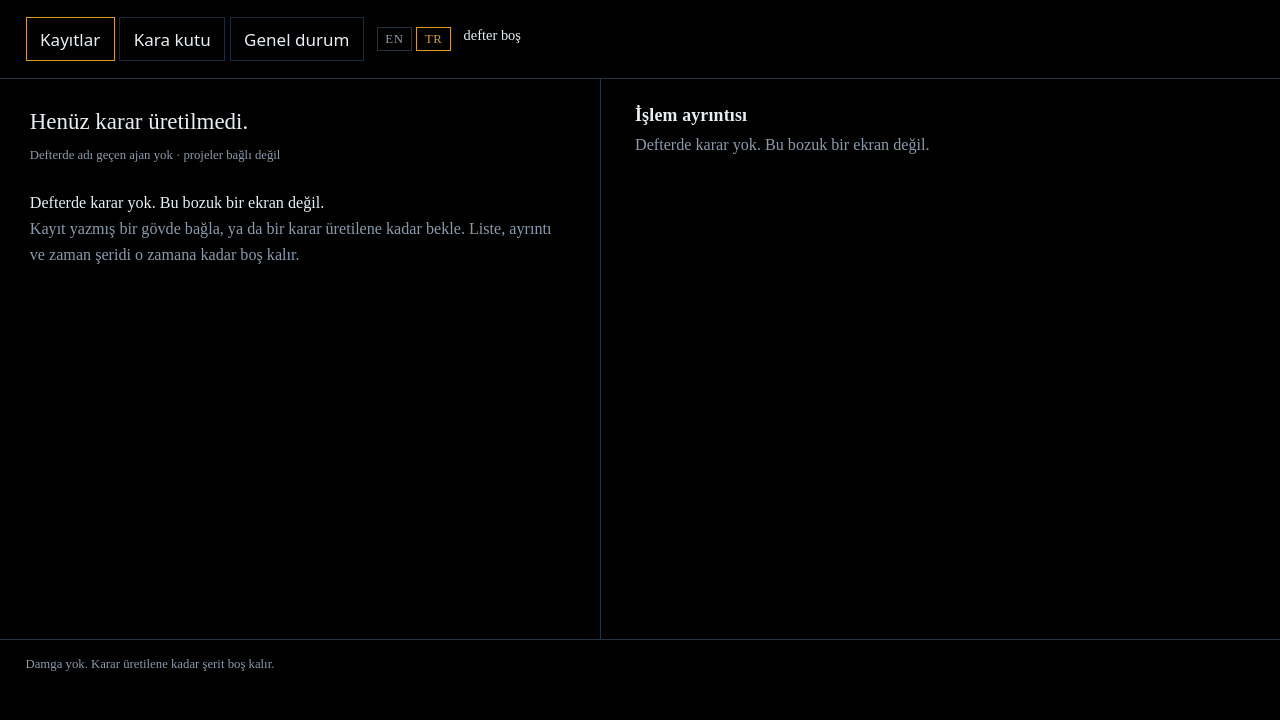
Test: pending approvals › lists pending rows with rule text and has no approve-all control
This screenshot has width=1280, height=720.
Click the tab "Genel durum": (297, 39) [230,17,364,61]
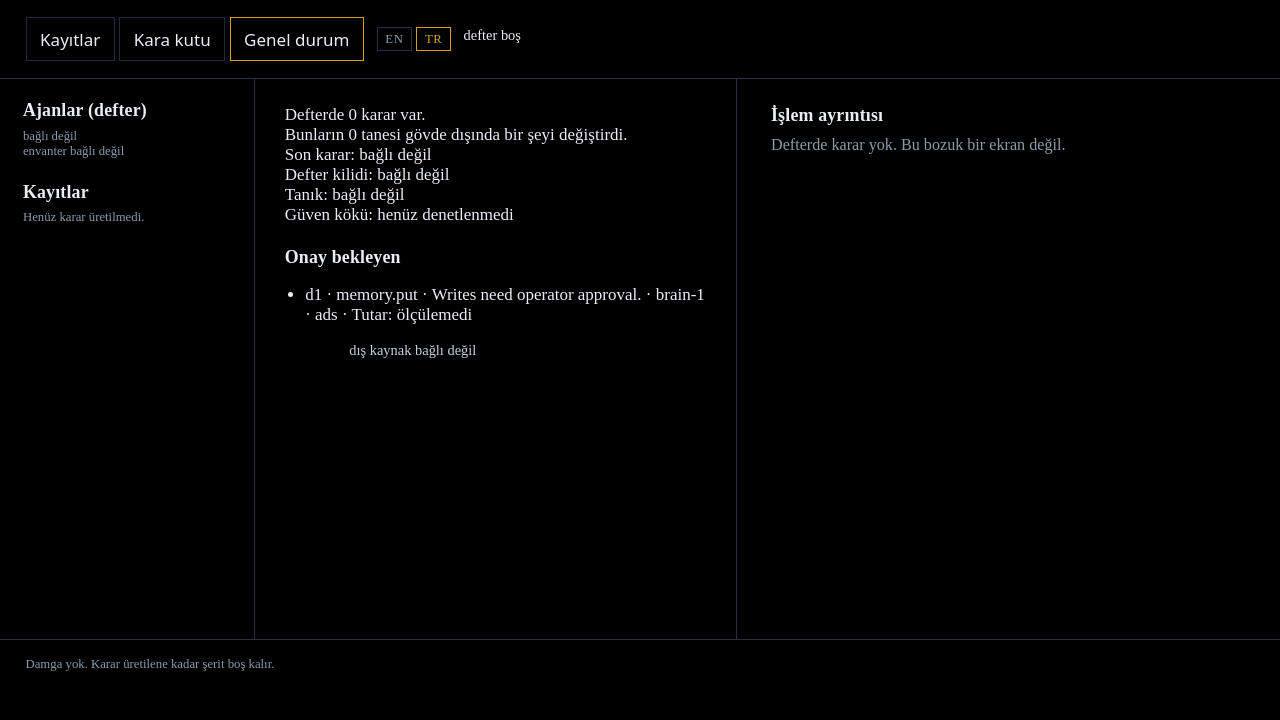
Now the element with test id "pending-approvals" shows "d1", box [305,285,322,304]
Now the element with test id "pending-approvals" shows "Writes need operator approval", box [432,285,642,304]
Now the element with test id "pending-approvals" shows "ads", box [305,305,472,324]
